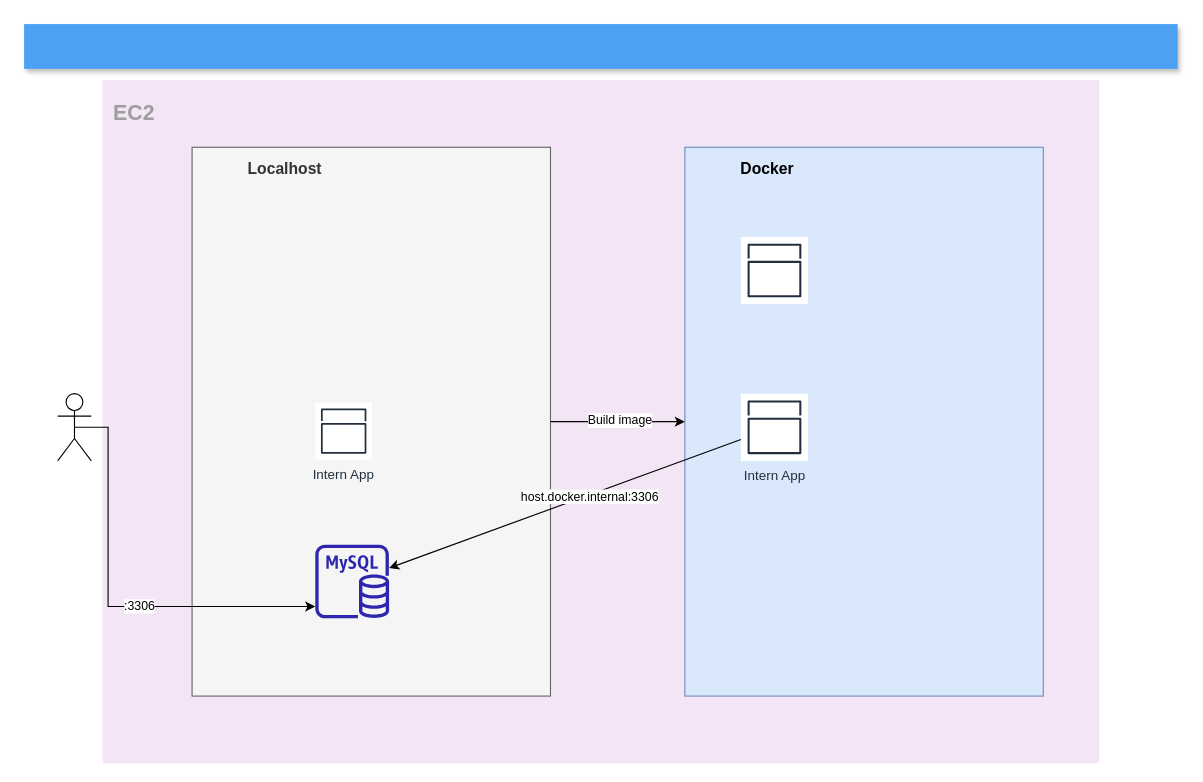
The diagram is 1203 pixels wide and 782 high, and some of its shapes have lost their labels. The shapes that lost their labels are listed below. From the top down, each one's centre as x and y in pixels, then its label:
At (x=601, y=47): "Architecture: General > EC2 -> Docker".
At (x=774, y=270): "Nginx".
At (x=74, y=427): "Client".
